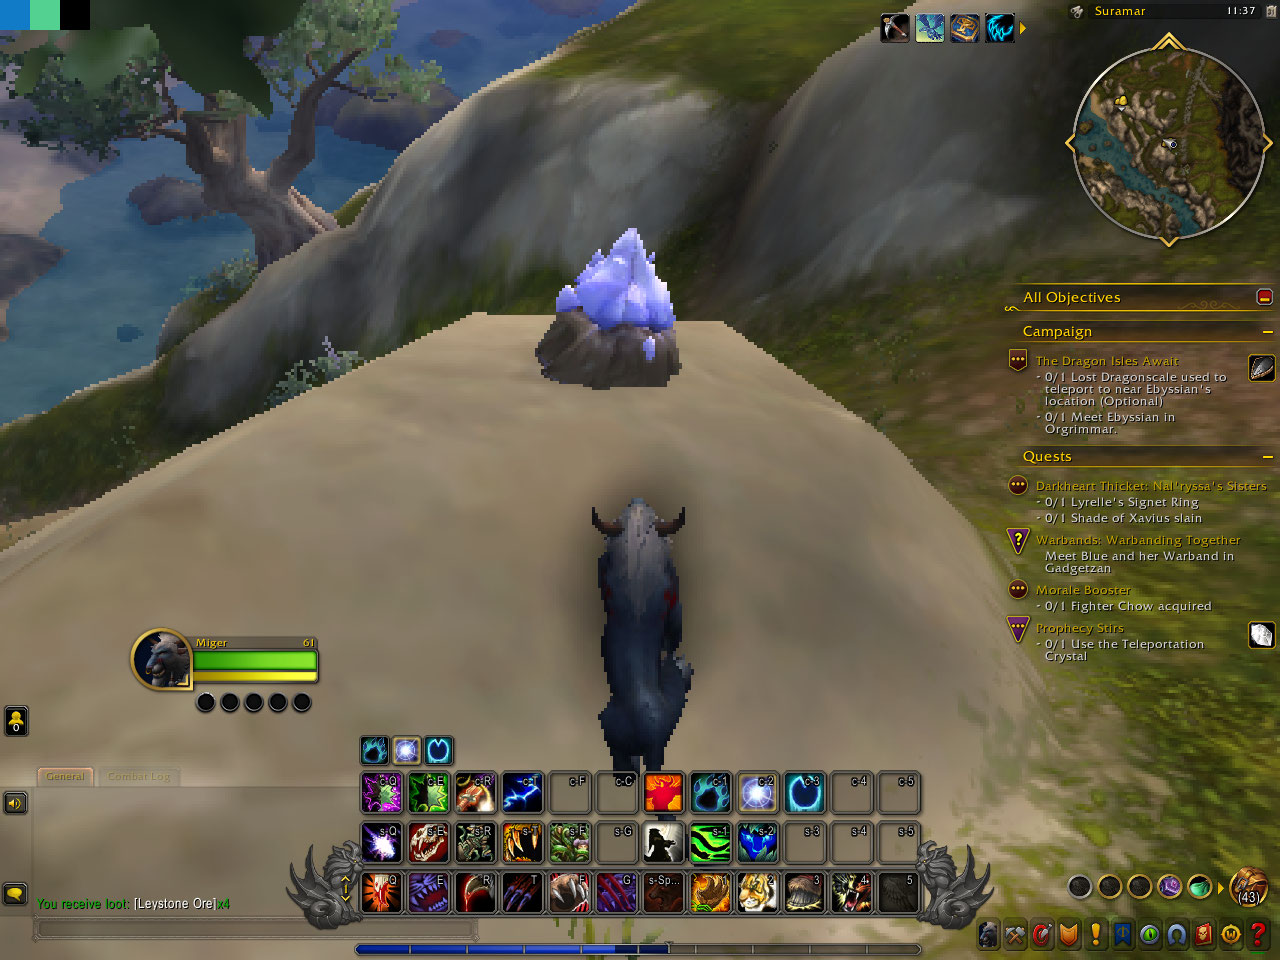ore: (534, 224, 684, 394)
